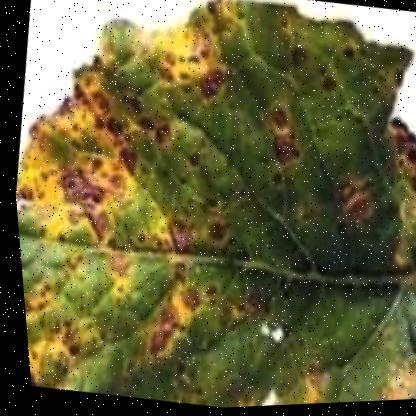AlternariaBrassicicola: (123, 304, 191, 368), (133, 208, 199, 268), (241, 89, 304, 141), (183, 57, 239, 113), (324, 173, 376, 231), (248, 127, 310, 175), (161, 278, 217, 317), (124, 115, 179, 153), (271, 39, 318, 81), (190, 207, 233, 252), (306, 74, 348, 100), (333, 44, 361, 70)
